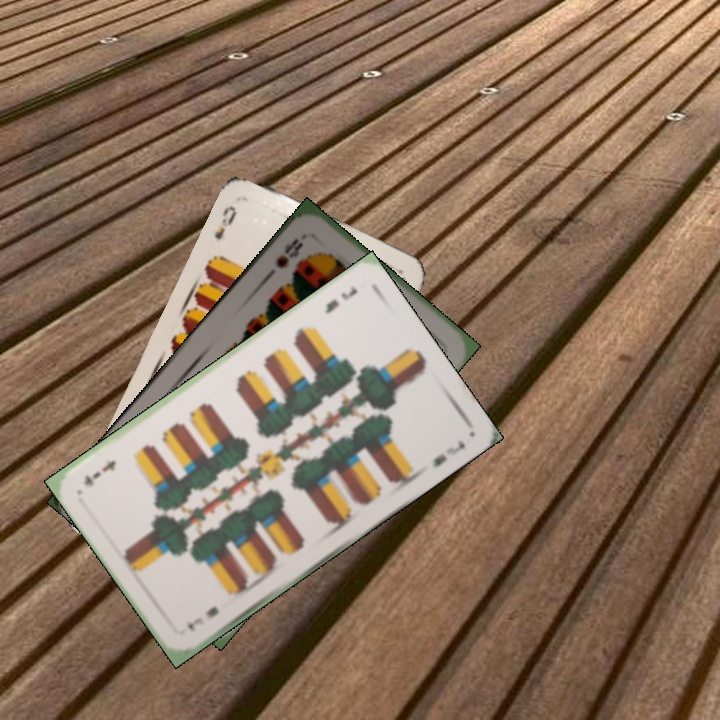E7: (320, 282, 360, 317), (183, 602, 221, 634)
E9: (210, 201, 240, 243)
S8: (271, 234, 306, 272)
